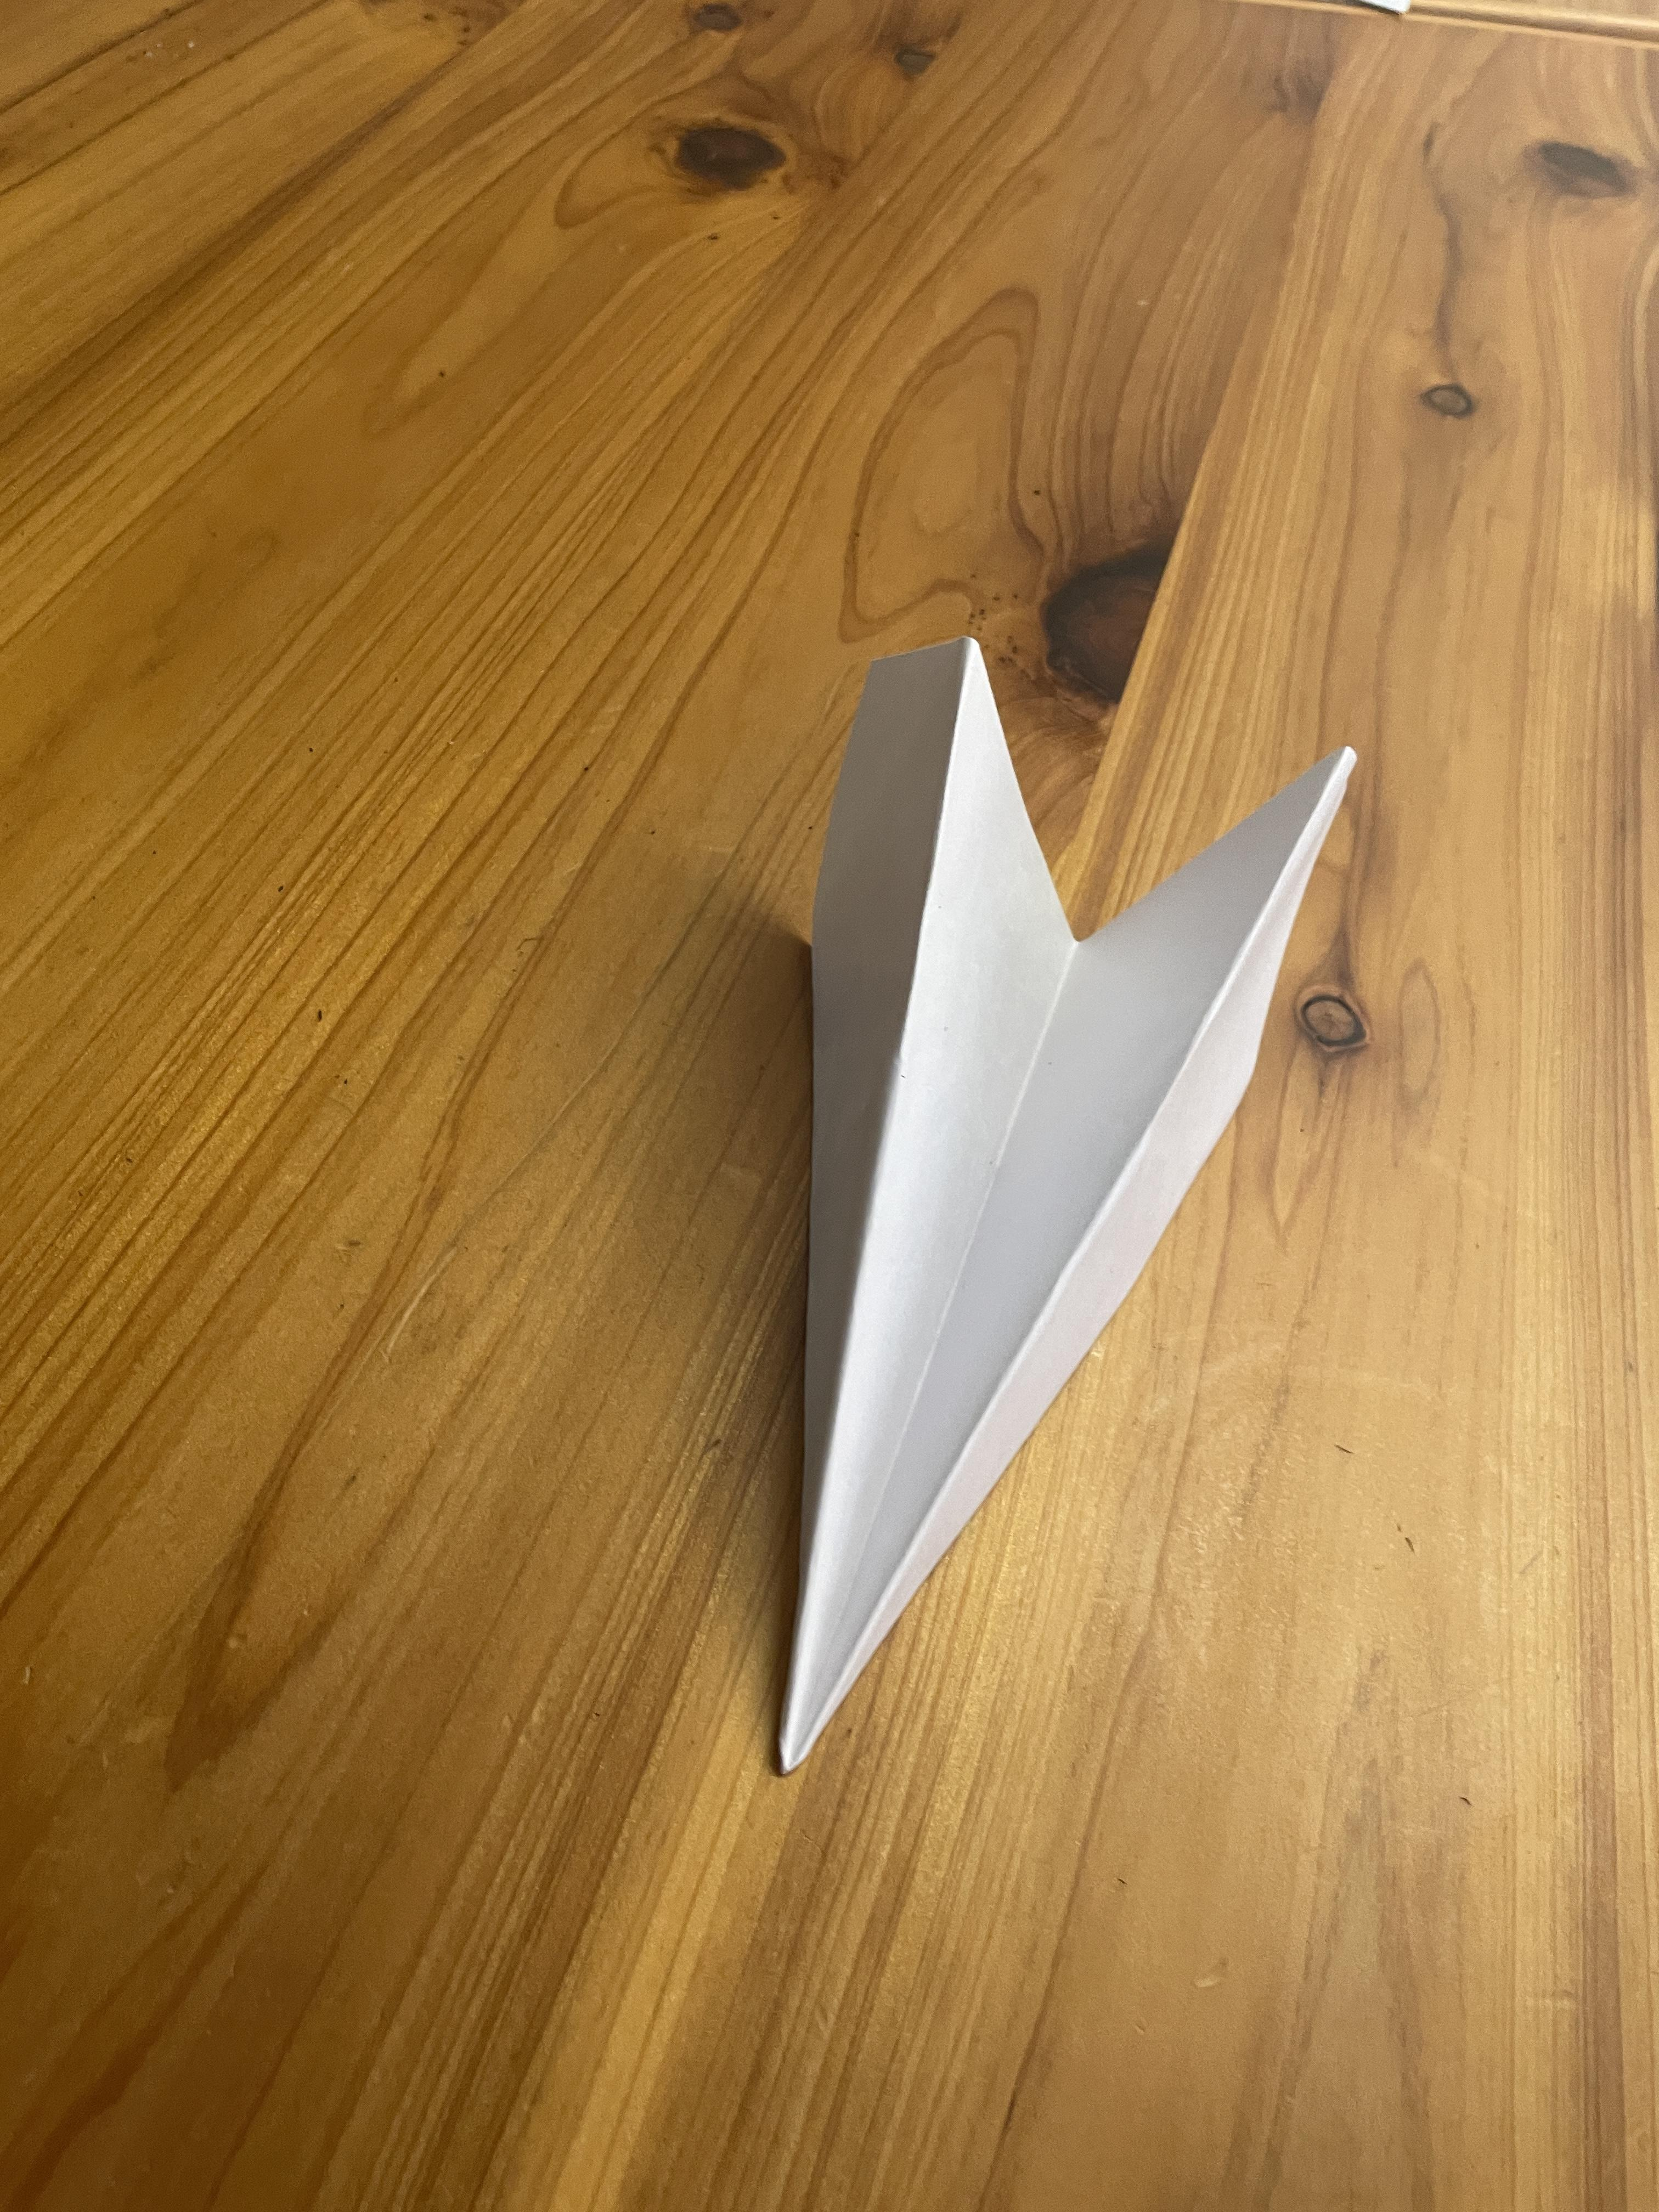shape_3: (664, 538, 1452, 1928)
